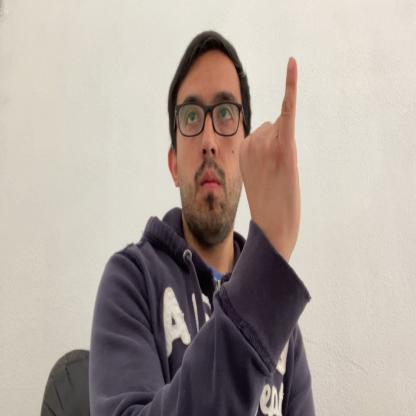I: (237, 54, 302, 260)
